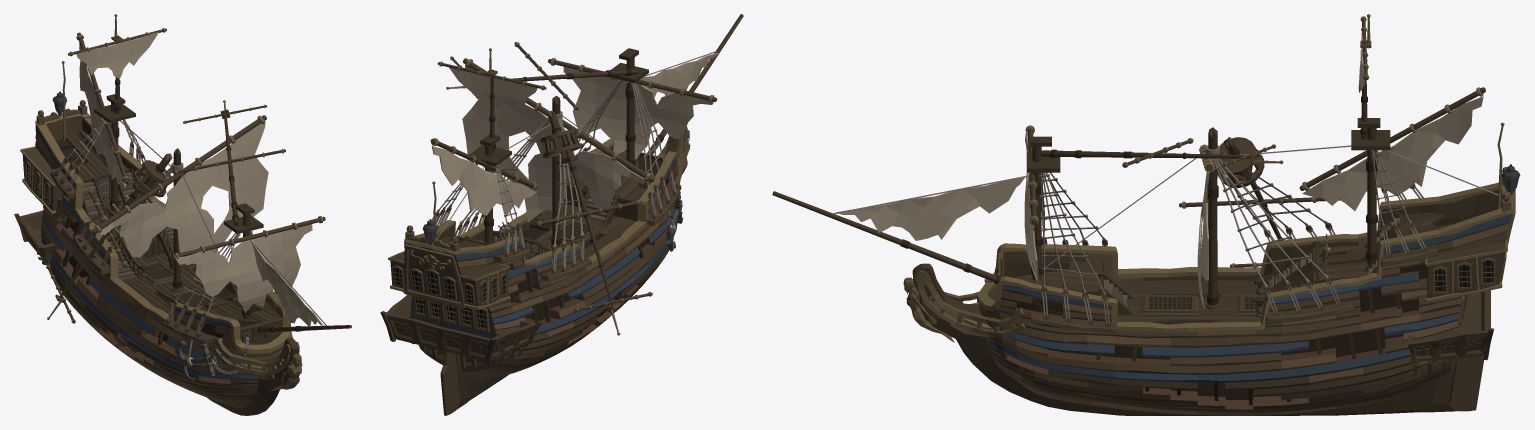
The model's file is SM_Prop_Shipwreck_01.glb.
3 views of the same model, side by side, from view 1: azimuth 30°, elevation 25°; view 2: azimuth 150°, elevation 25°; view 3: azimuth 270°, elevation 25° (orthographic). The views are drawn at different scales.
Parts seen in each view (by area): view 1: SM_Prop_Shipwreck_01_Sails; view 2: SM_Prop_Shipwreck_01_Sails; view 3: SM_Prop_Shipwreck_01_Sails.
Boxes of the visible parts, <box> form: SM_Prop_Shipwreck_01_Sails: <box>14,14,351,415</box>; SM_Prop_Shipwreck_01_Sails: <box>380,14,743,415</box>; SM_Prop_Shipwreck_01_Sails: <box>772,14,1520,415</box>.
Size of the model in its own units: 0.1493 by 0.2352 by 0.3975.
